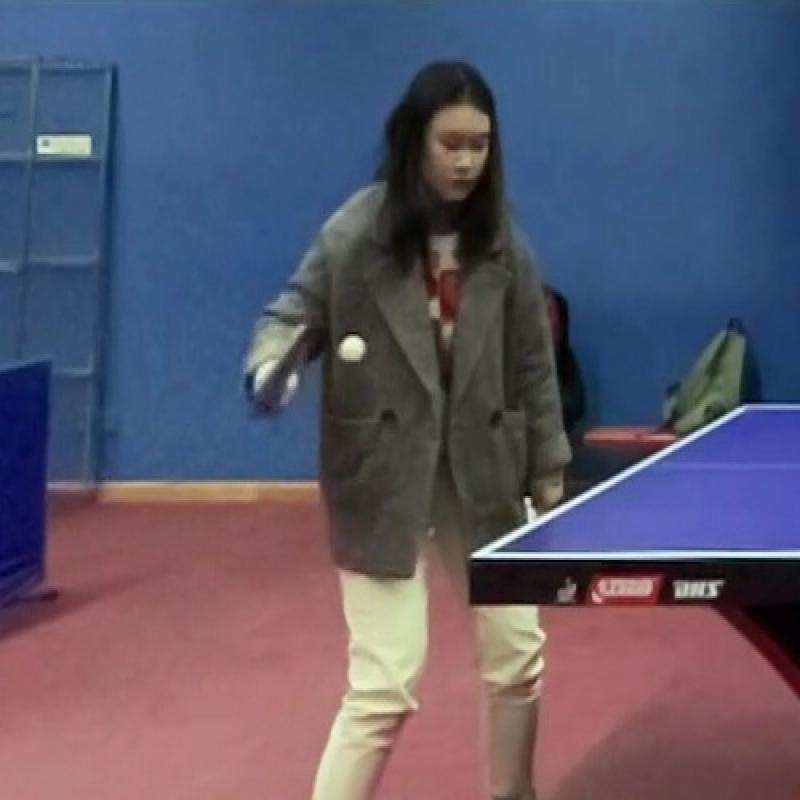bats: (242, 312, 324, 426)
